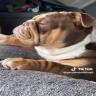dog: (0, 11, 96, 82)
